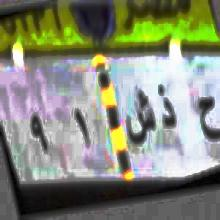1: (72, 102, 94, 156)
7aa: (196, 86, 220, 152)
9: (26, 104, 54, 155)
sheen: (127, 81, 154, 158)
zaal: (156, 78, 178, 136)
